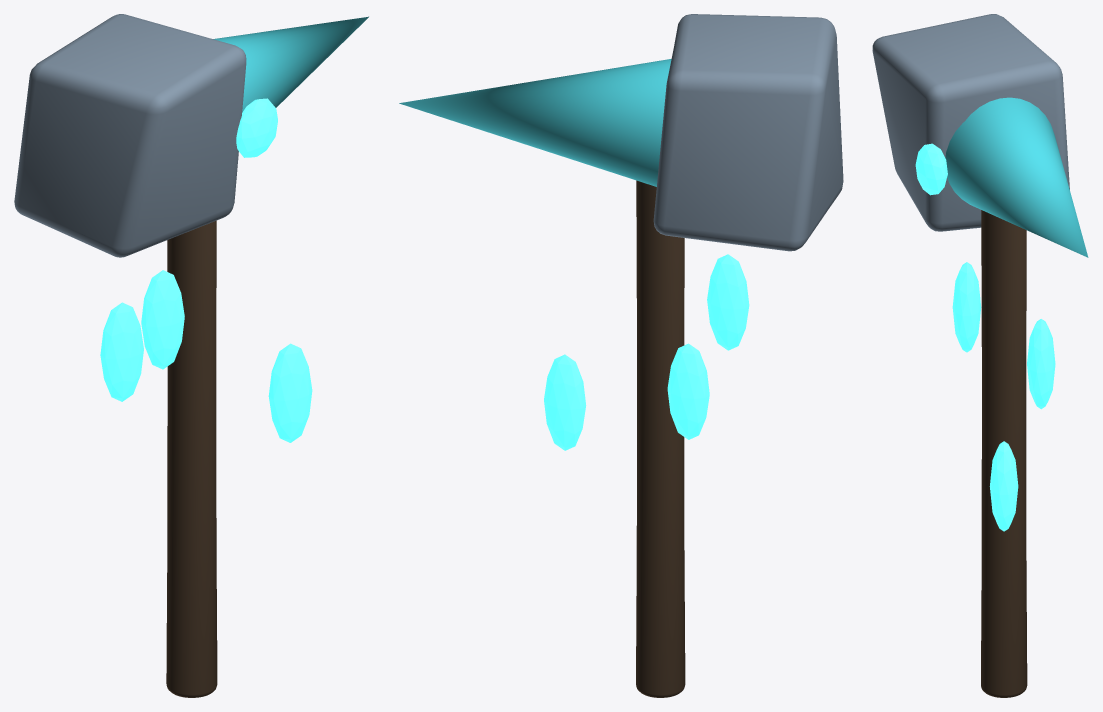
The model's file is hammer_v6.glb.
The picture shows the model from 3 angles, left to right: view 1: azimuth 30°, elevation 25°; view 2: azimuth 150°, elevation 25°; view 3: azimuth 270°, elevation 25°; orthographic projection. The views are drawn at different scales.
Visible parts, largest first — view 1: PICK_HAMMER_FACE_PRIMARY, HAFT_SECONDARY, WAR_PICK_ACCENT, HELIX_SHARD_EMISSIVE.002, HELIX_SHARD_EMISSIVE, HELIX_SHARD_EMISSIVE.001, PICK_EYE_EMISSIVE; view 2: PICK_HAMMER_FACE_PRIMARY, HAFT_SECONDARY, WAR_PICK_ACCENT, HELIX_SHARD_EMISSIVE, HELIX_SHARD_EMISSIVE.001, HELIX_SHARD_EMISSIVE.002; view 3: PICK_HAMMER_FACE_PRIMARY, HAFT_SECONDARY, WAR_PICK_ACCENT, HELIX_SHARD_EMISSIVE.001, HELIX_SHARD_EMISSIVE, HELIX_SHARD_EMISSIVE.002, PICK_EYE_EMISSIVE.
Part boxes in pixels (box(x1,y1,x2,y2)): PICK_HAMMER_FACE_PRIMARY: box(14, 14, 246, 257); HAFT_SECONDARY: box(166, 220, 217, 697); WAR_PICK_ACCENT: box(213, 16, 368, 111); HELIX_SHARD_EMISSIVE.002: box(141, 270, 184, 369); HELIX_SHARD_EMISSIVE: box(268, 343, 312, 442); HELIX_SHARD_EMISSIVE.001: box(100, 302, 143, 401); PICK_EYE_EMISSIVE: box(236, 98, 277, 157); PICK_HAMMER_FACE_PRIMARY: box(653, 14, 843, 251); HAFT_SECONDARY: box(636, 180, 685, 697); WAR_PICK_ACCENT: box(399, 59, 671, 186); HELIX_SHARD_EMISSIVE: box(544, 354, 586, 450); HELIX_SHARD_EMISSIVE.001: box(667, 343, 709, 439); HELIX_SHARD_EMISSIVE.002: box(707, 254, 749, 350); PICK_HAMMER_FACE_PRIMARY: box(872, 14, 1069, 231); HAFT_SECONDARY: box(981, 210, 1027, 697); WAR_PICK_ACCENT: box(945, 97, 1088, 257); HELIX_SHARD_EMISSIVE.001: box(1027, 319, 1055, 409); HELIX_SHARD_EMISSIVE: box(989, 441, 1018, 531); HELIX_SHARD_EMISSIVE.002: box(952, 262, 981, 352); PICK_EYE_EMISSIVE: box(915, 143, 947, 195).
Bounding box in the file's own units: 2.28 × 3.75 × 1.21.
